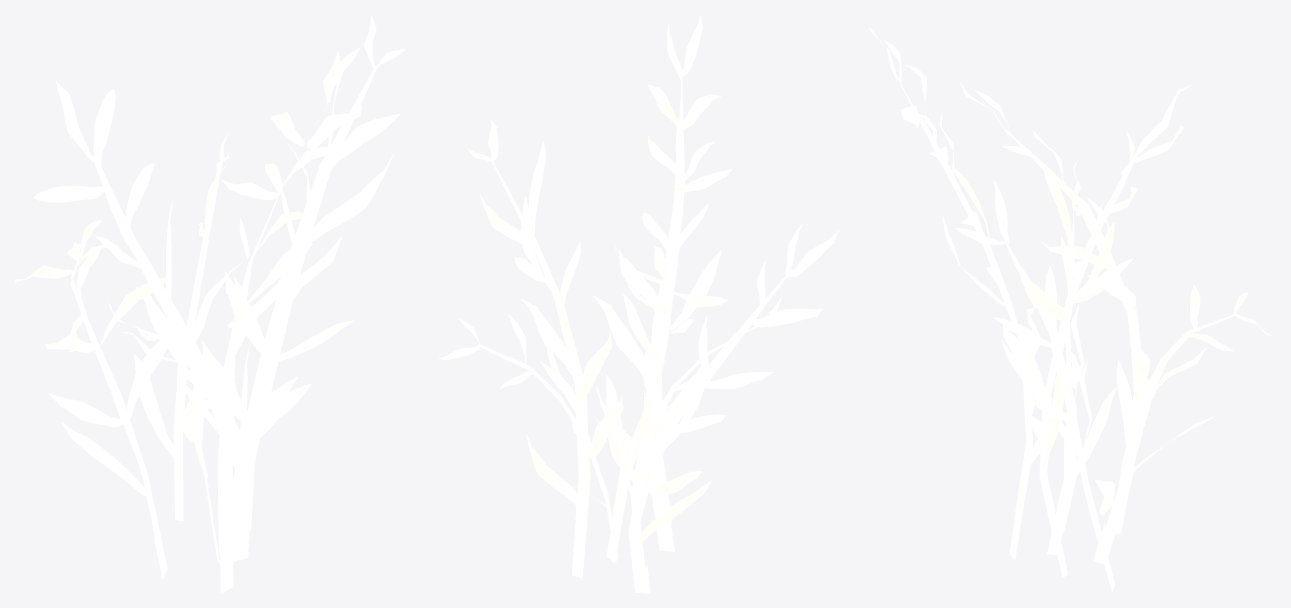
3 renders of one model, left to right at view 1: azimuth 30°, elevation 25°; view 2: azimuth 150°, elevation 25°; view 3: azimuth 270°, elevation 25°, orthographic. The views are drawn at different scales.
Visible parts, largest first — view 1: SM_Flax_02v2_LOD0; view 2: SM_Flax_02v2_LOD0; view 3: SM_Flax_02v2_LOD0.
Boxes of the visible parts, x1,y1,x2,y2 form: SM_Flax_02v2_LOD0: (14, 16, 405, 592); SM_Flax_02v2_LOD0: (438, 16, 838, 593); SM_Flax_02v2_LOD0: (868, 17, 1275, 592).
Bounding box in the file's own units: 0.5393 × 0.7502 × 0.4842.
1 material, 1 textured.
